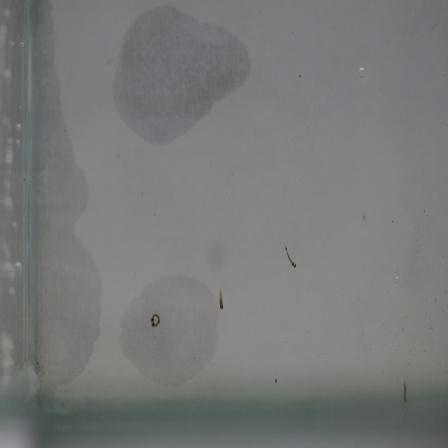Jentik-Nyamuk: (281, 243, 300, 271), (146, 309, 167, 330), (215, 283, 227, 314)
